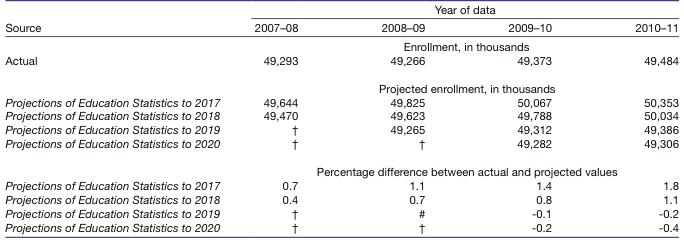table: (4, 4, 678, 233)
table column: (4, 4, 236, 233), (465, 4, 592, 233), (339, 4, 465, 233), (236, 4, 339, 233), (592, 4, 678, 233)
table column header: (4, 4, 678, 53)
table row: (4, 53, 678, 74), (4, 74, 678, 95), (4, 137, 678, 158), (4, 158, 678, 179), (4, 19, 678, 37), (4, 37, 678, 53), (4, 4, 678, 19), (4, 95, 678, 109), (4, 109, 678, 123), (4, 123, 678, 137), (4, 179, 678, 193), (4, 193, 678, 207), (4, 207, 678, 221), (4, 221, 678, 233)
table spanning cell: (4, 4, 236, 53), (4, 53, 236, 95), (4, 137, 236, 179), (236, 74, 678, 95), (236, 158, 678, 179), (236, 37, 678, 53), (236, 4, 678, 19)
